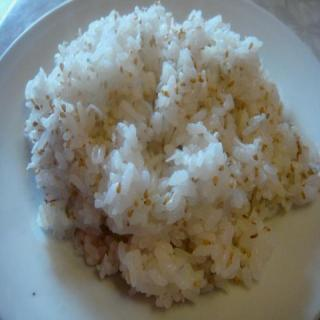Nasi: (24, 1, 320, 312)
